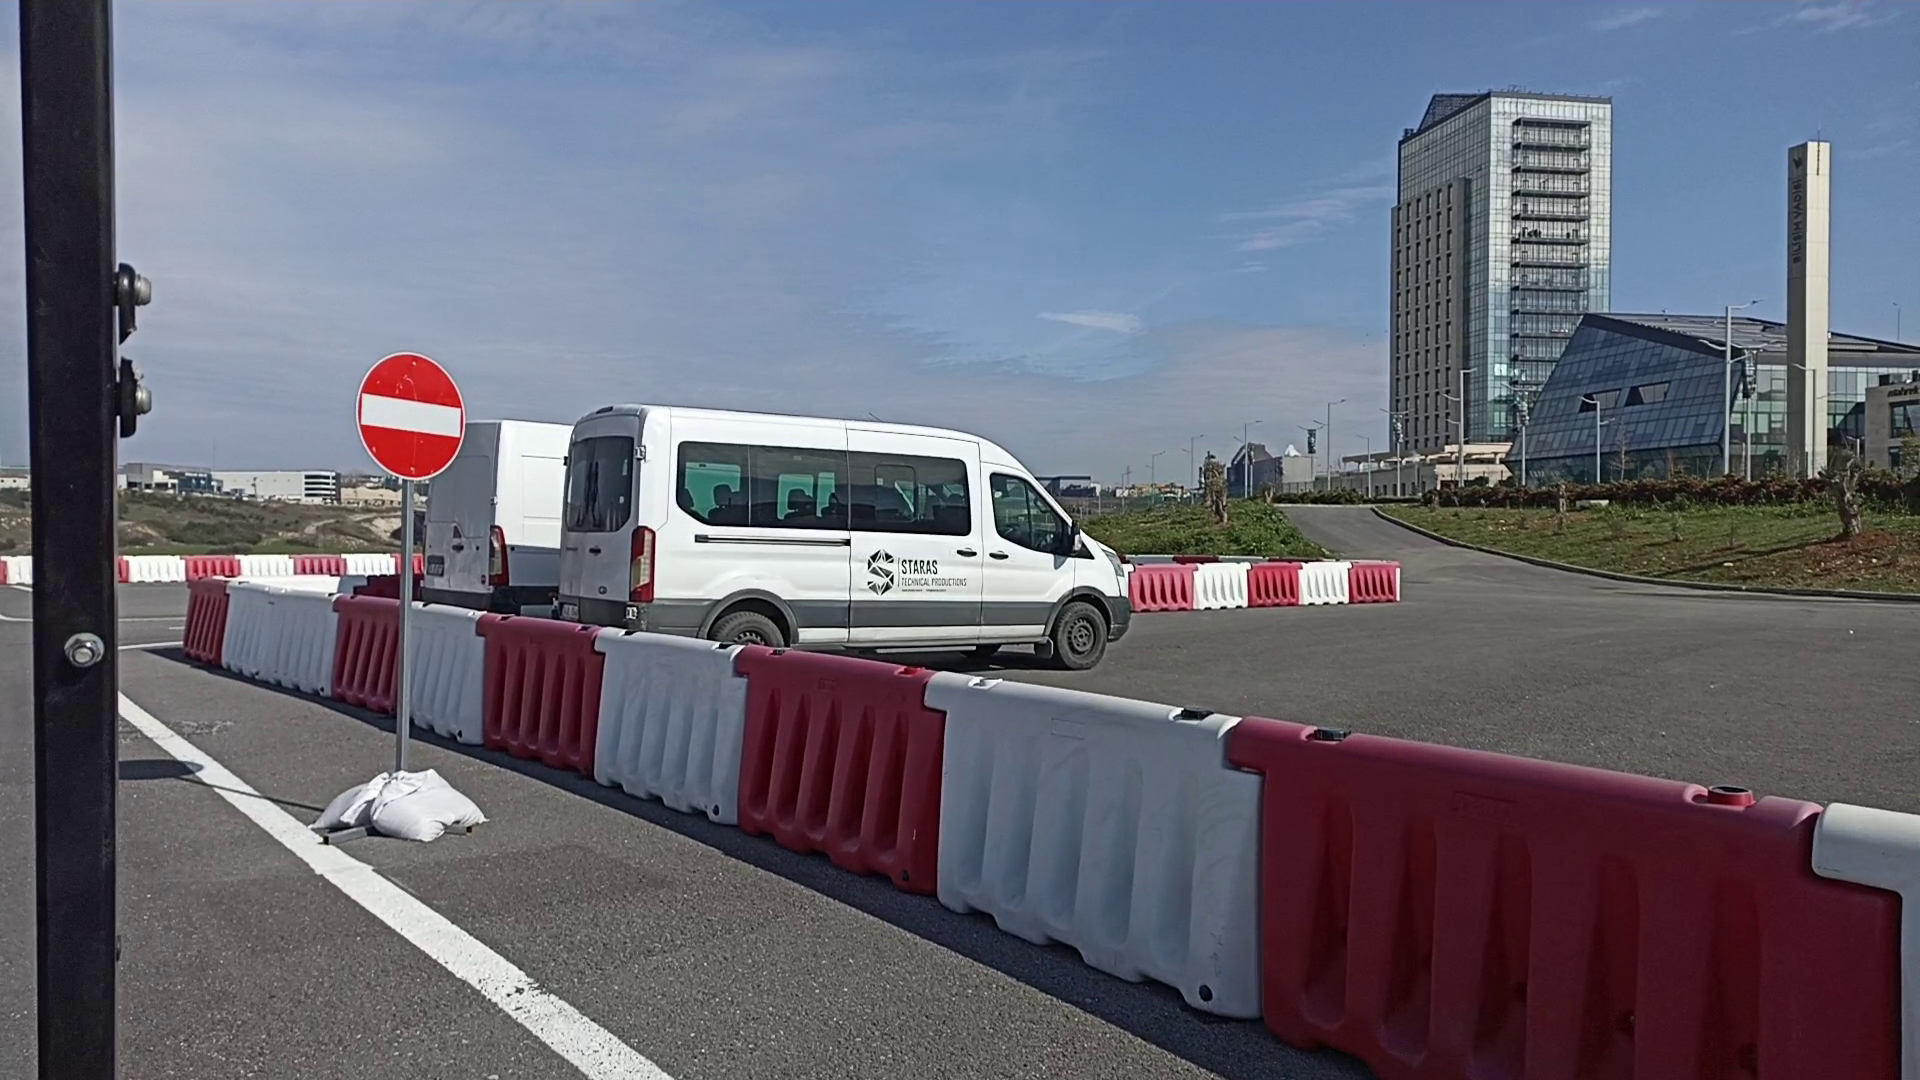noentryway: (353, 349, 471, 483)
